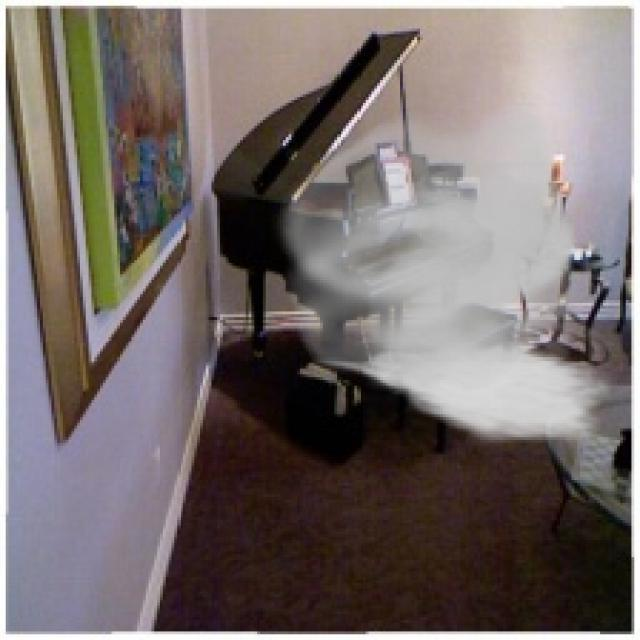Smoke: (268, 102, 618, 448)
